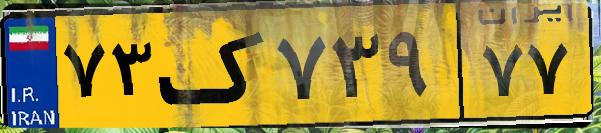3: (330, 28, 385, 110), (110, 28, 158, 98)
7: (270, 28, 330, 110), (57, 26, 110, 100), (475, 38, 525, 113), (525, 38, 570, 115)
9: (385, 28, 445, 110)
ک: (158, 12, 270, 120)
